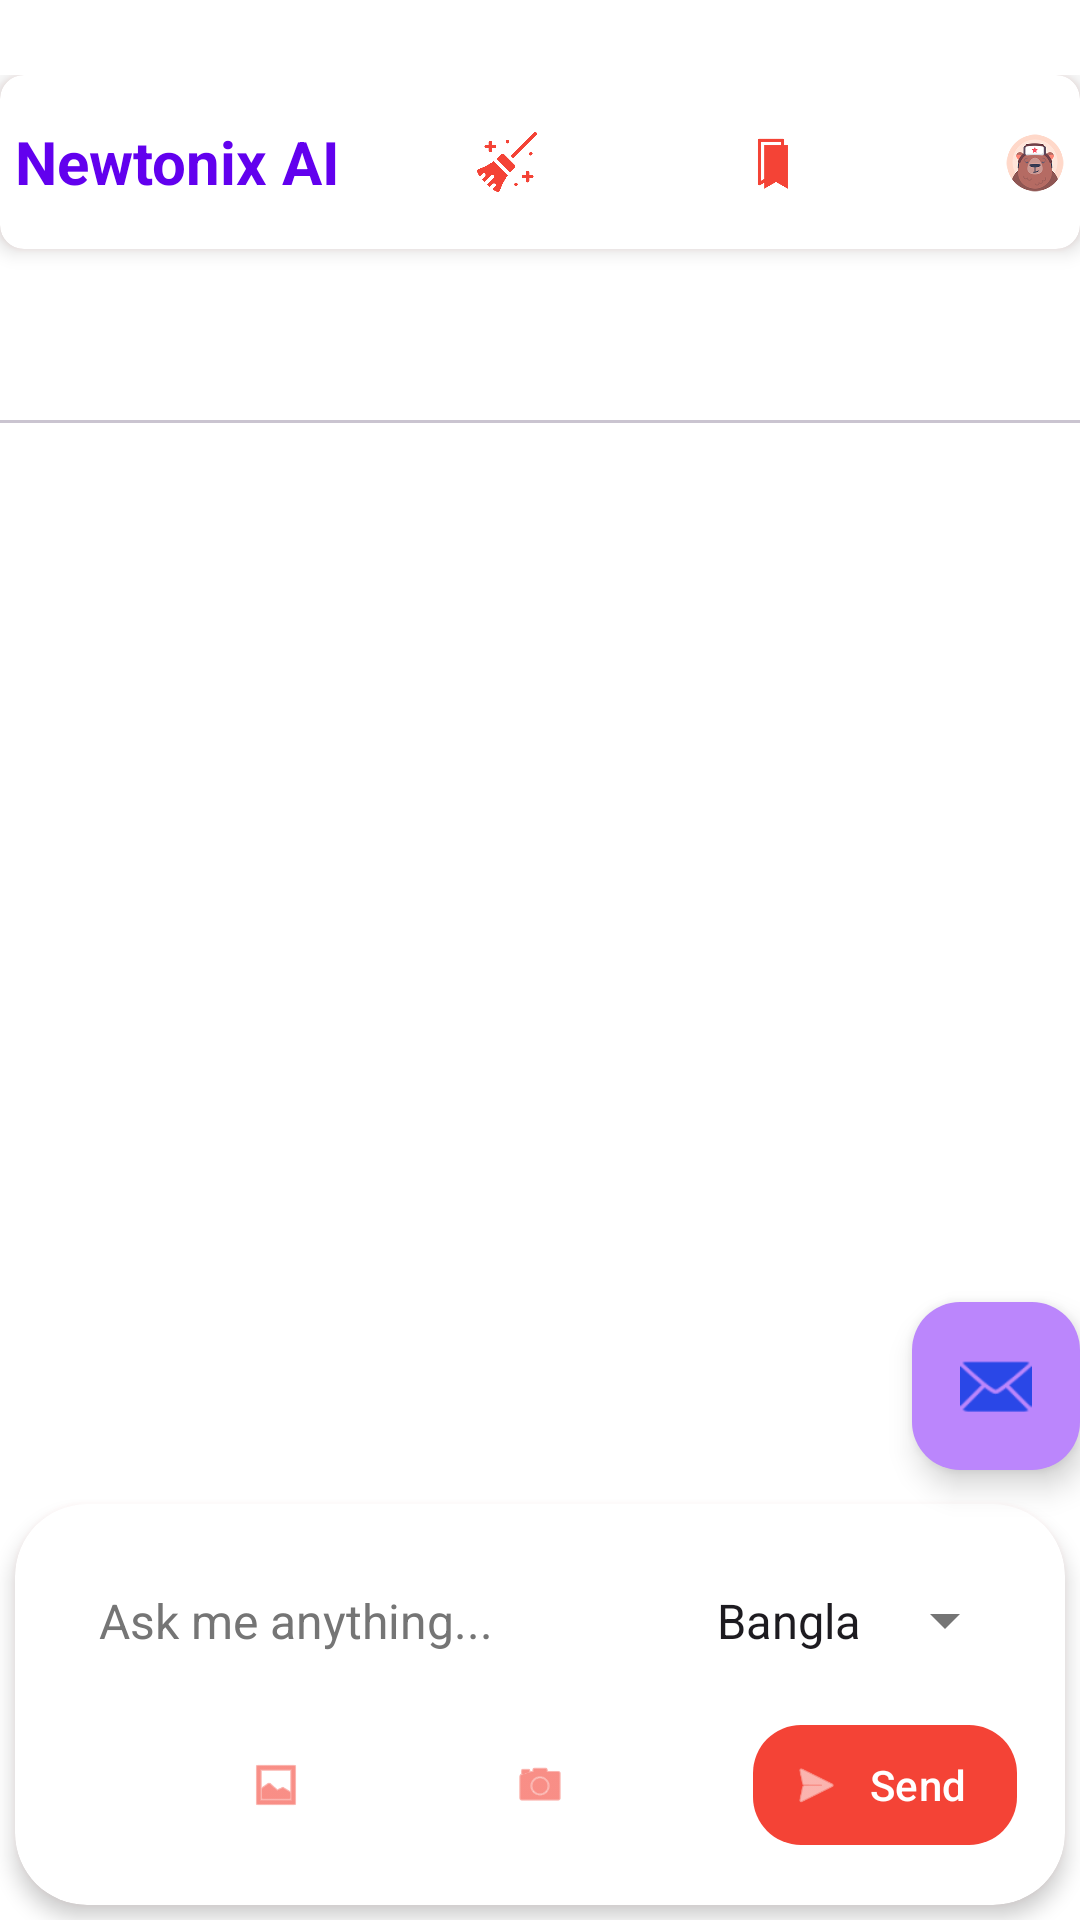

Where to tap for icons on this 1080px×1920px app screen, as [x,y]:
book mark: [773,163]
camera: [540,1784]
email: [996,1386]
gallery: [276,1785]
jharu: [507,162]
User Avatar: [1035,163]
